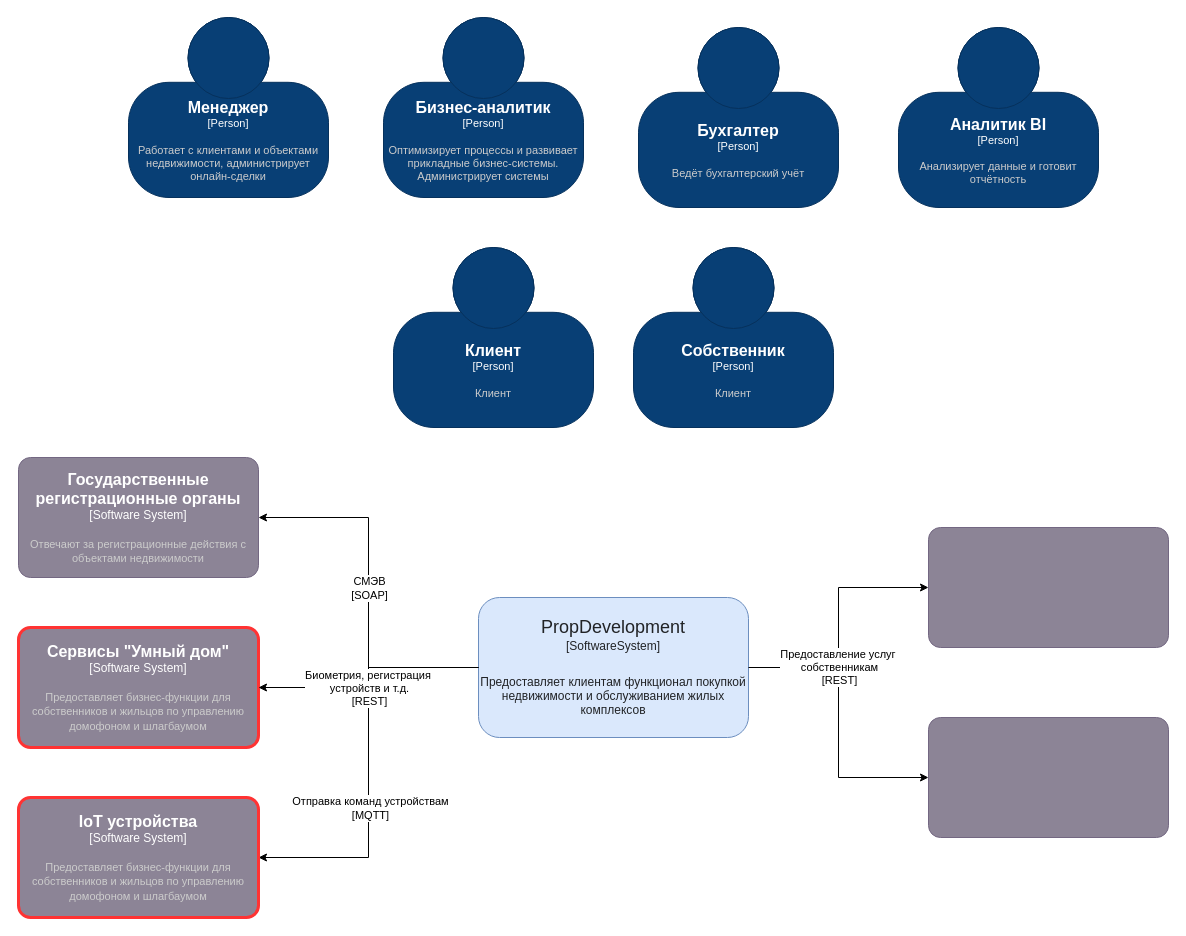
Some shapes in this 1186 by 936 pixel diagram are drawn without their labels. The centre of each missing label's shape, as x and y in pixels:
Платёжная система [Software System] Провайдер онлайн-платежей: [1048,777]
Поставщик ресурсов ЖКХ [Software System]: [1048,587]
